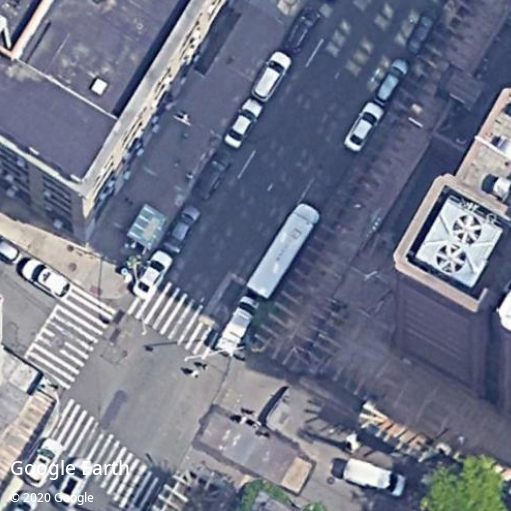Vent: (435, 243, 467, 274), (452, 214, 482, 245)
